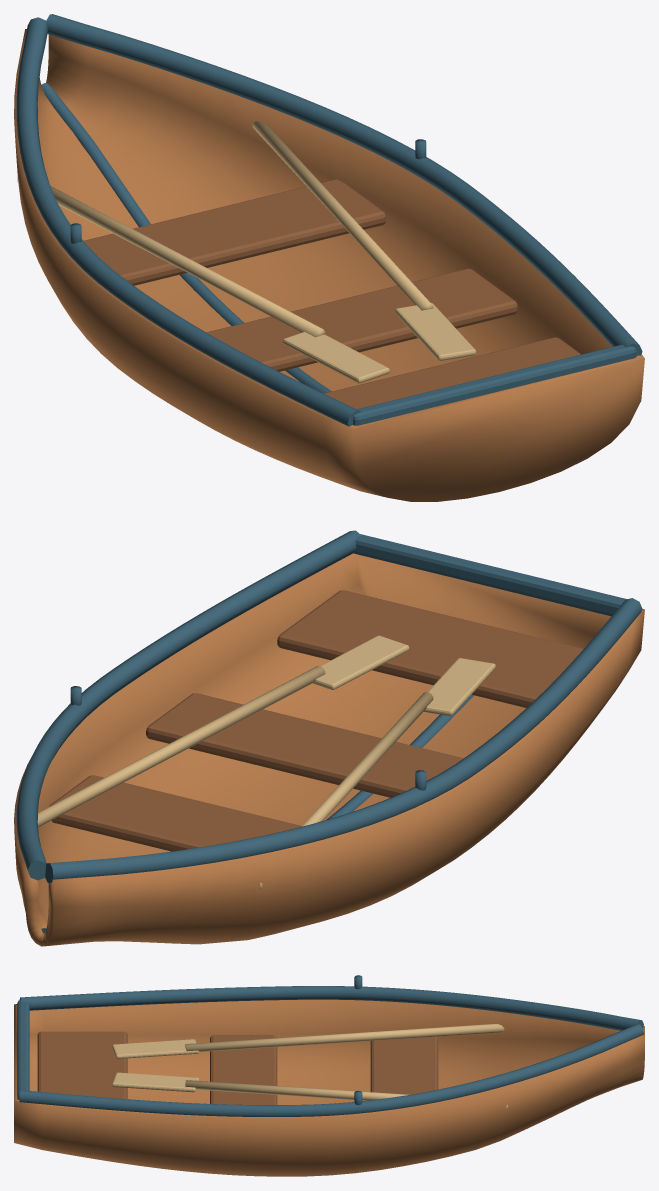
The model's file is Rowboat.fbx.
3 renders of one model, top to bottom at view 1: azimuth 30°, elevation 25°; view 2: azimuth 150°, elevation 25°; view 3: azimuth 270°, elevation 25°, orthographic. The views are drawn at different scales.
Parts seen in each view (by area): view 1: Hull, Trim, Bench, Oar; view 2: Hull, Bench, Trim, Oar; view 3: Hull, Trim, Bench, Oar.
Boxes of the visible parts, box(x1,y1,x2,y2) form: Hull: box(14, 29, 644, 501); Trim: box(16, 14, 642, 426); Bench: box(84, 179, 580, 409); Oar: box(17, 121, 476, 383); Hull: box(14, 553, 644, 946); Bench: box(49, 590, 583, 851); Trim: box(16, 530, 642, 933); Oar: box(37, 635, 495, 889); Hull: box(14, 999, 644, 1176); Trim: box(17, 975, 643, 1116); Bench: box(37, 1031, 438, 1104); Oar: box(112, 1024, 507, 1109).
Size of the model in its own units: 532 by 249 by 1121.
